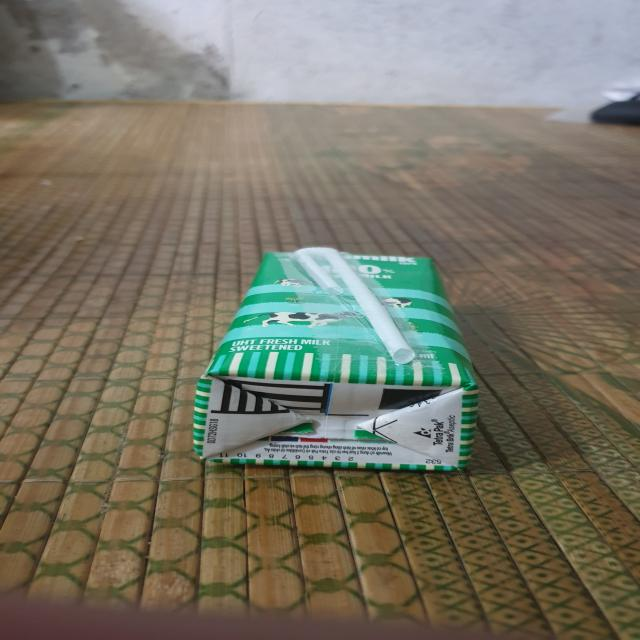Vina: (193, 250, 478, 466)
